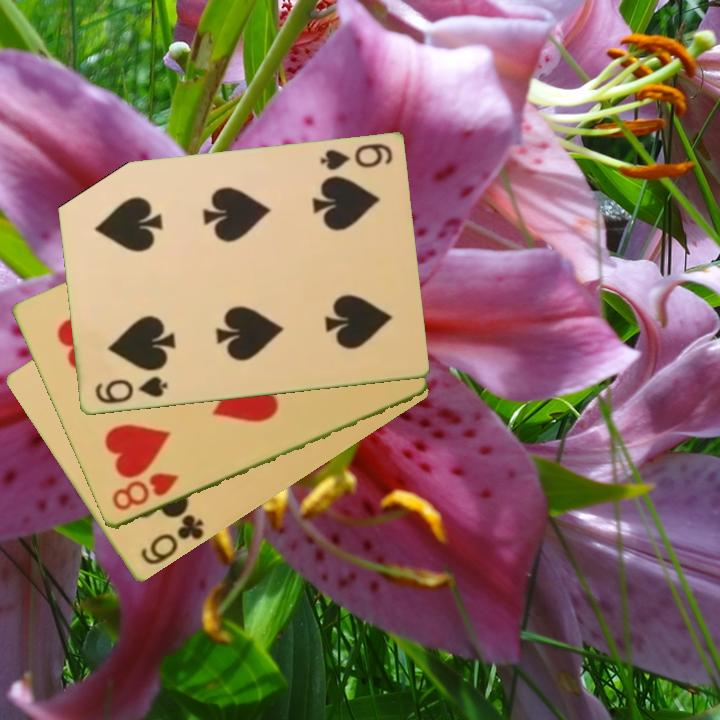6c: (137, 511, 207, 569)
6s: (91, 373, 170, 407), (316, 140, 395, 174)
8h: (108, 469, 182, 514)
